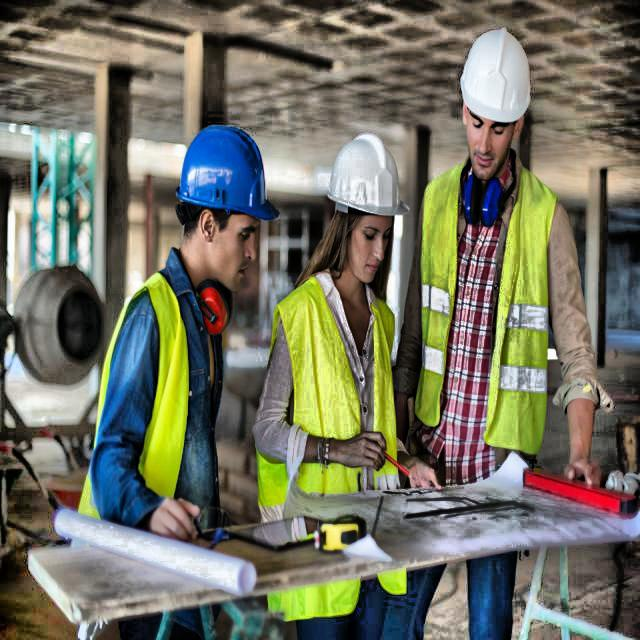person: (404, 19, 600, 640), (82, 115, 266, 640), (252, 103, 416, 635)
